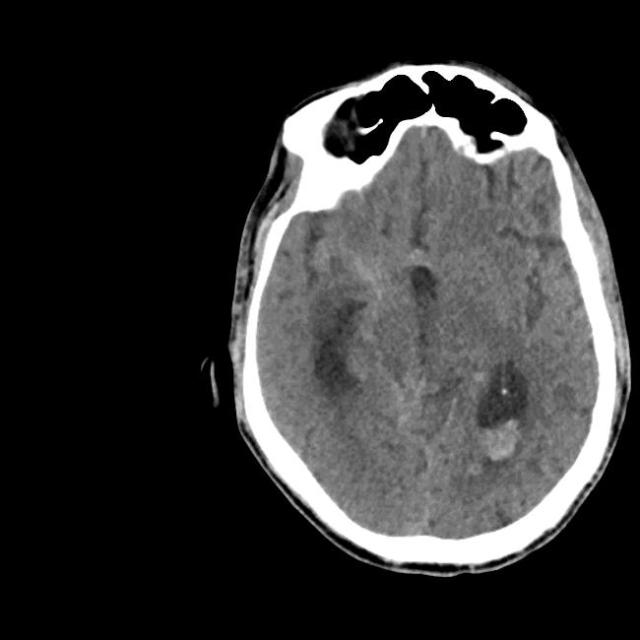lesion: (219, 60, 631, 576)
